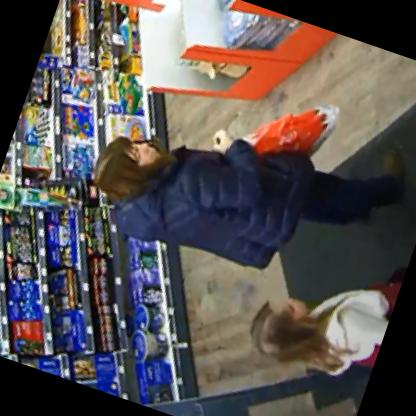Human Body: (68, 34, 415, 323), (236, 208, 412, 406)
